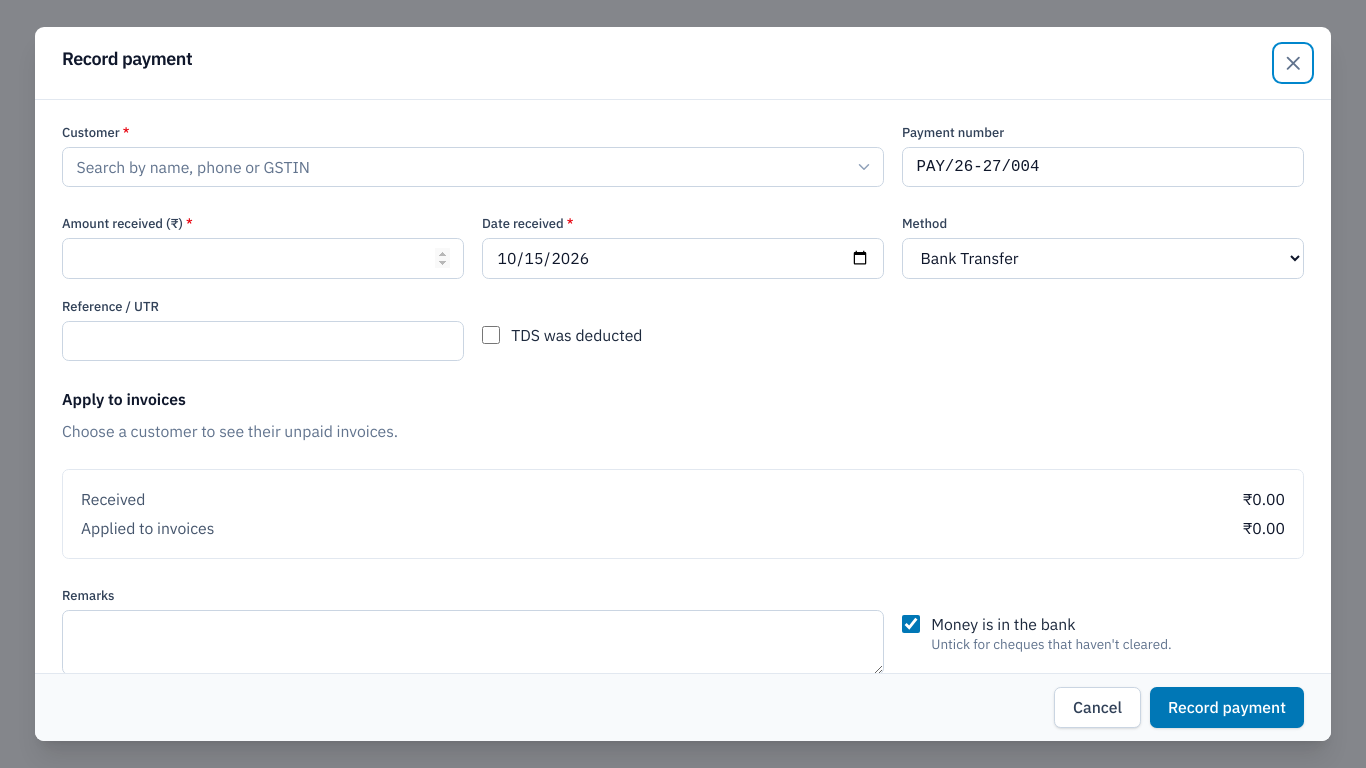
it: recording a payment › Fill oldest first spreads the money in order
Click the dropdown named "Customer" at (473, 167), box x1=62 y1=146 x2=884 y2=187
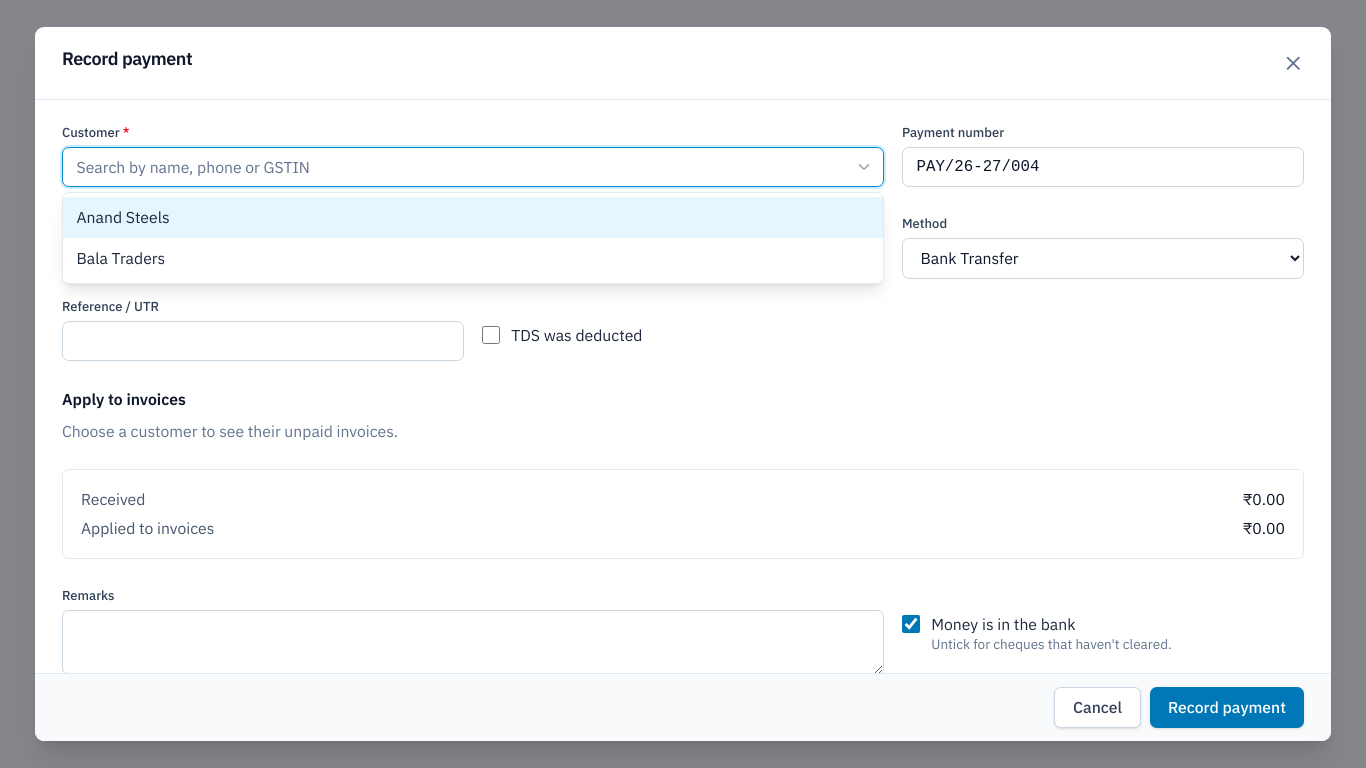
Click the option "Anand Steels" at (123, 217), box x1=63 y1=197 x2=883 y2=238
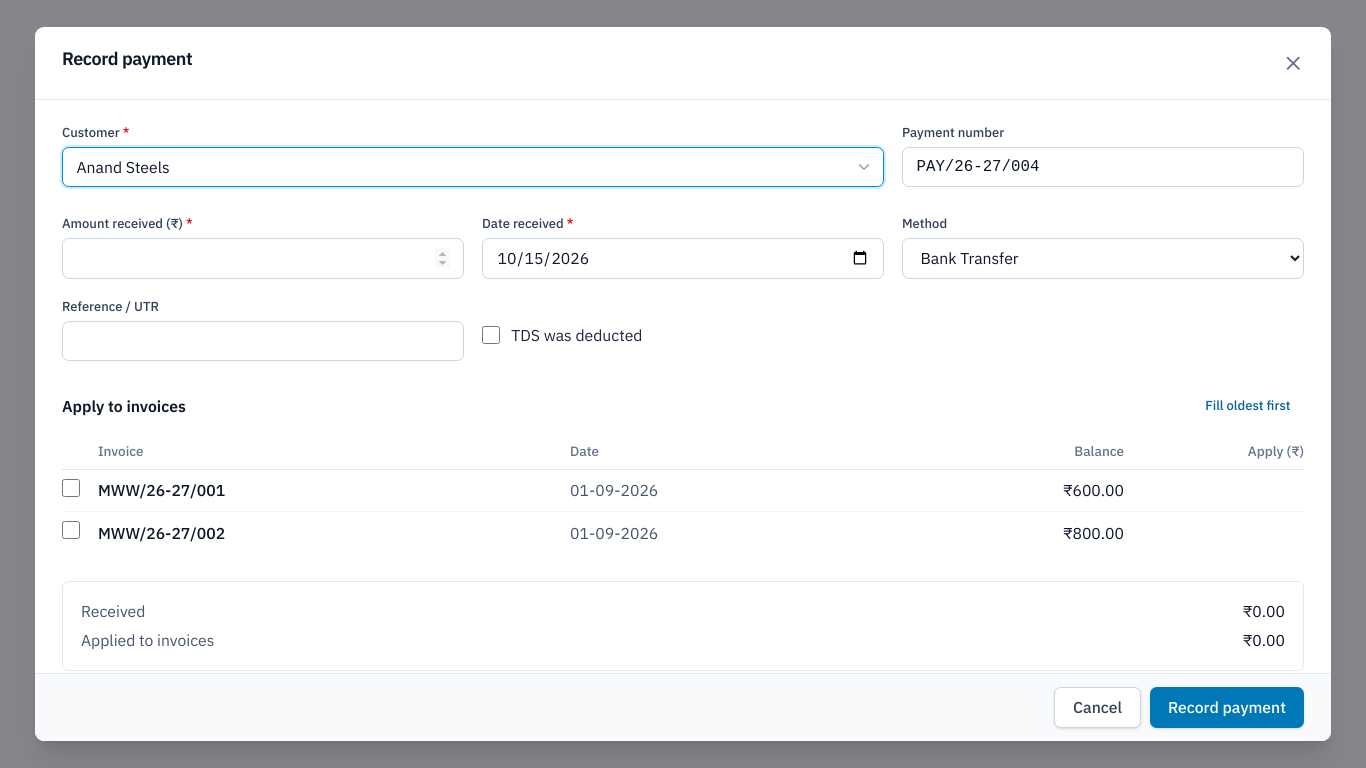
Expected: the heading "Apply to invoices" is shown, x1=62 y1=395 x2=186 y2=417
Type "1000" into the number field labelled "Amount received (₹) *" at (263, 258), box x1=62 y1=238 x2=464 y2=278
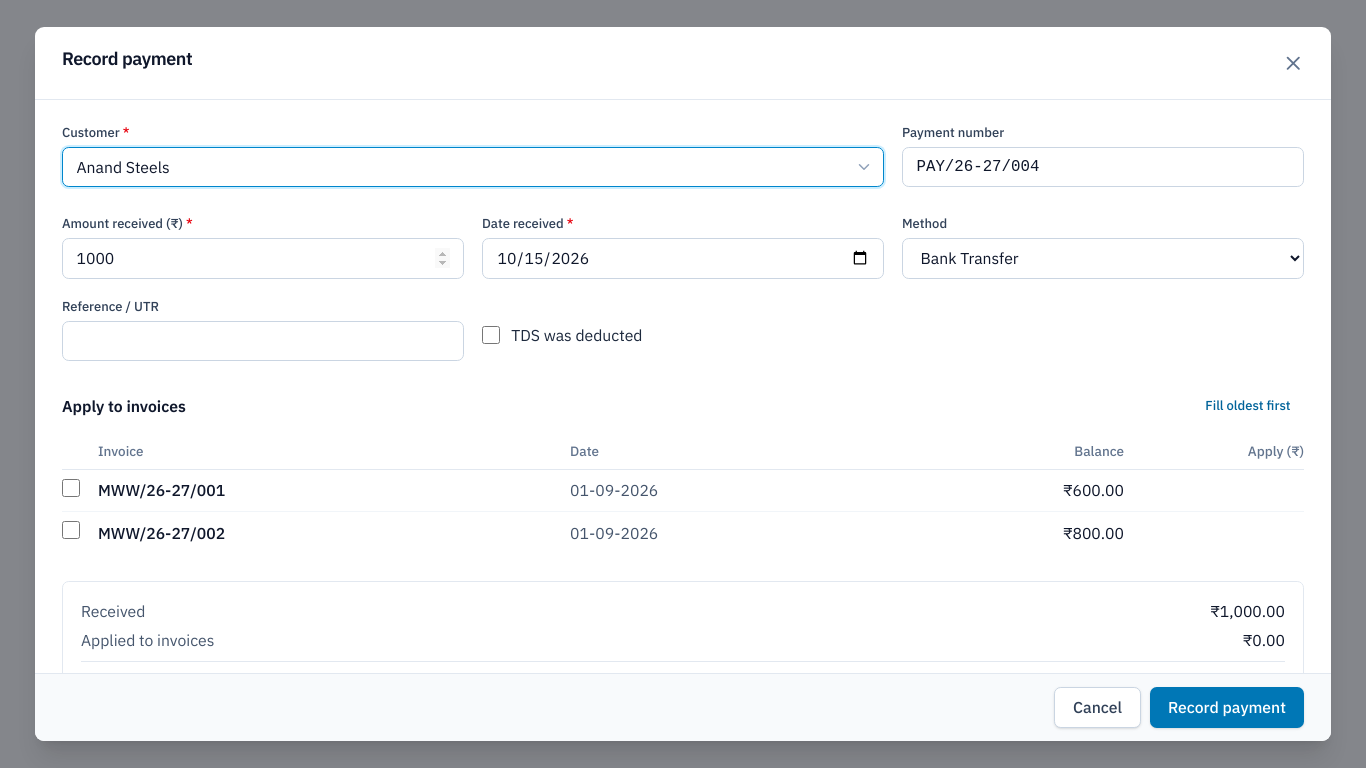
Click the button "Fill oldest first" at (1248, 406), box x1=1192 y1=388 x2=1304 y2=424
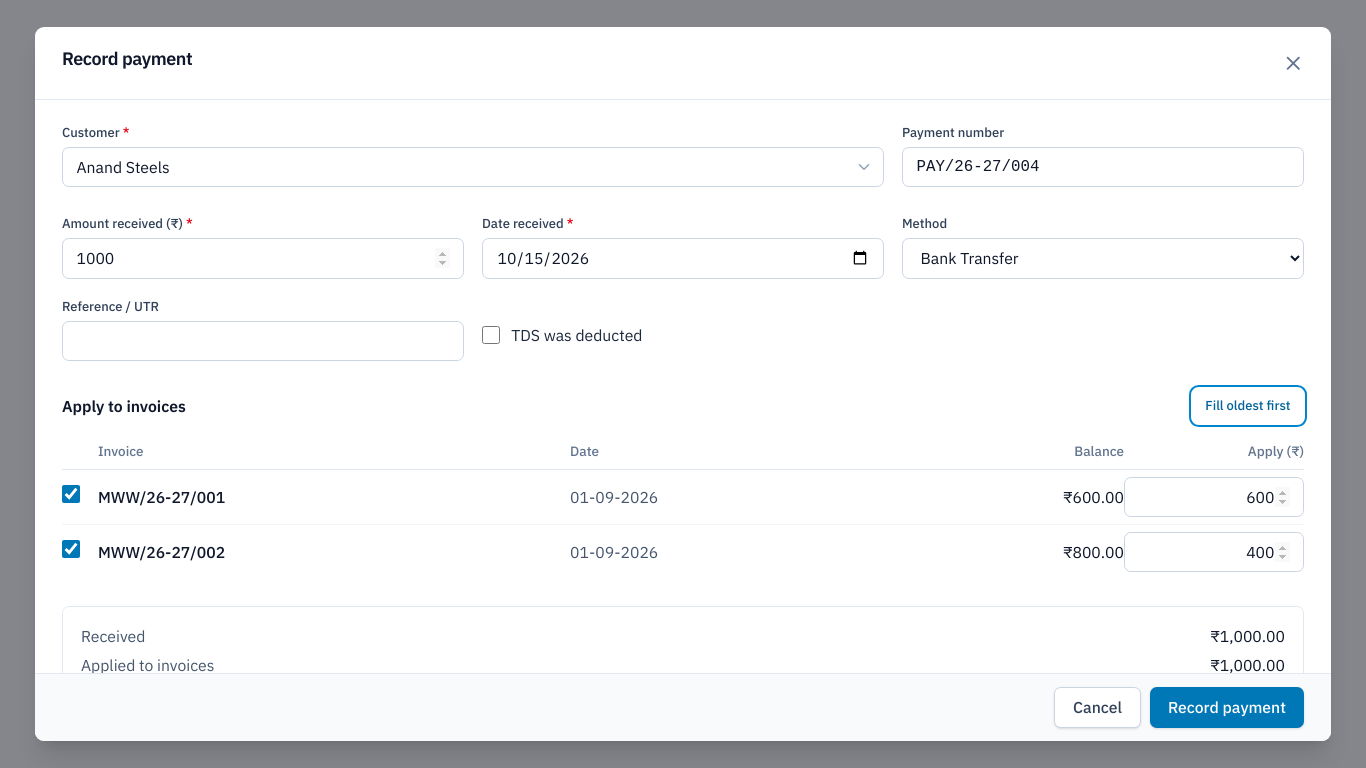
Expected: the number field named "Amount for MWW/26-27/001" holds "600", x1=1124 y1=477 x2=1304 y2=517
Expected: the number field named "Amount for MWW/26-27/002" holds "400", x1=1124 y1=532 x2=1304 y2=572
